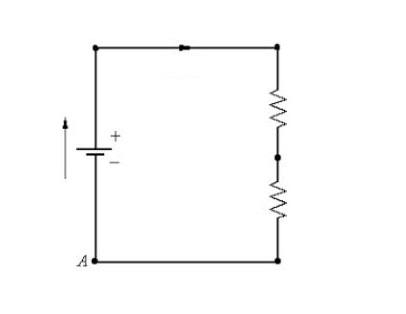resistor: (256, 162, 300, 236), (260, 71, 296, 132)
